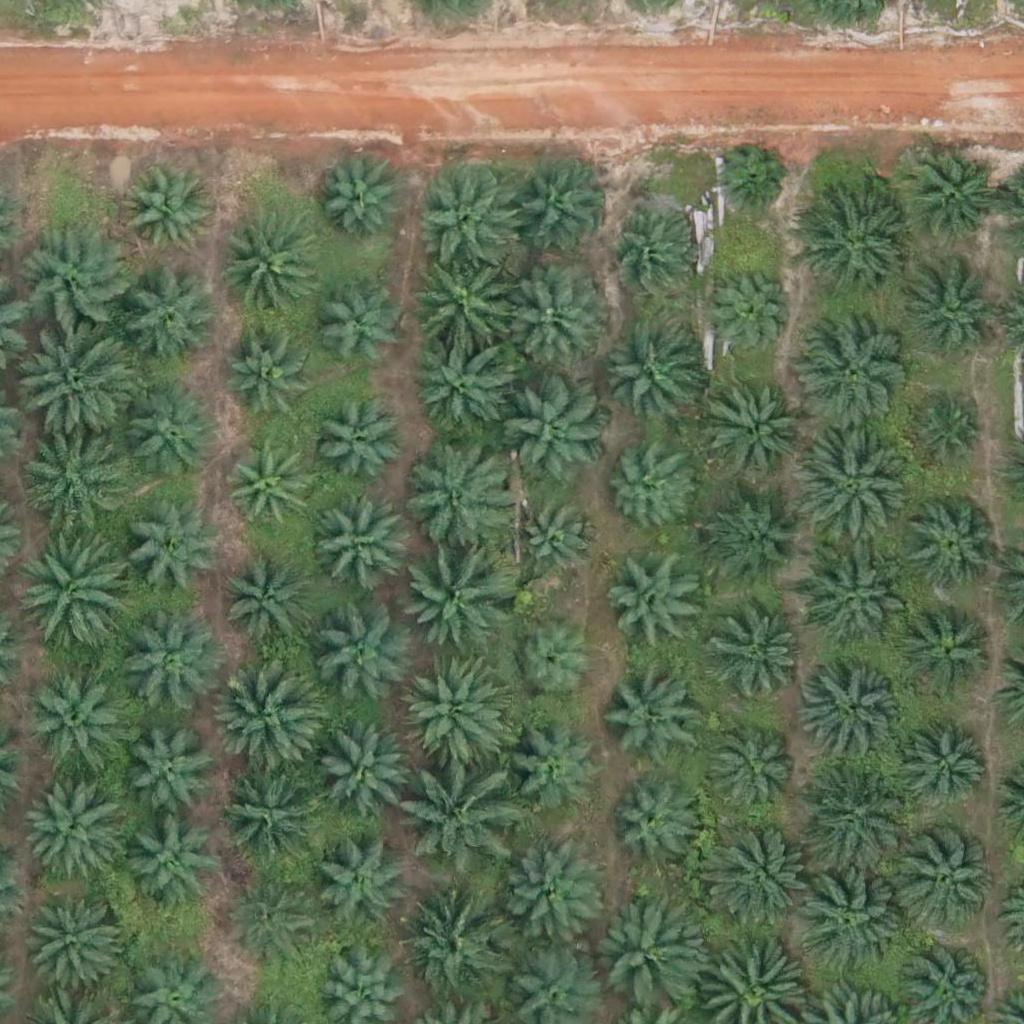Kelapa_Sawit: (700, 816, 813, 930), (792, 435, 905, 549), (794, 864, 907, 978), (16, 532, 129, 645), (14, 232, 127, 345), (212, 656, 325, 769), (411, 165, 524, 278), (400, 542, 513, 655), (397, 655, 510, 768), (792, 318, 905, 431), (797, 758, 910, 871), (17, 329, 129, 443), (18, 425, 130, 539), (404, 765, 516, 879), (23, 665, 135, 778), (394, 439, 506, 552), (795, 185, 907, 298), (22, 895, 122, 996), (20, 775, 120, 876), (121, 378, 221, 479), (117, 610, 217, 711), (120, 811, 220, 912), (222, 866, 322, 967), (218, 216, 318, 317), (224, 769, 324, 870), (309, 496, 409, 597), (314, 605, 414, 706), (318, 722, 418, 823), (311, 834, 411, 935), (415, 263, 515, 364), (415, 333, 515, 434), (402, 898, 502, 999), (497, 846, 597, 947), (503, 268, 603, 369), (504, 160, 604, 261), (590, 897, 690, 998), (703, 376, 803, 477), (801, 555, 901, 656), (803, 664, 903, 765), (901, 599, 1001, 700), (908, 150, 1008, 251), (120, 271, 220, 371), (506, 378, 606, 478), (601, 326, 701, 426), (604, 543, 704, 643), (602, 659, 702, 759), (700, 715, 800, 815), (707, 602, 807, 702), (706, 494, 806, 594), (901, 826, 1001, 926), (900, 494, 1000, 594), (222, 447, 310, 536), (708, 269, 796, 358), (122, 173, 210, 261), (128, 734, 216, 822), (226, 341, 314, 429), (315, 285, 403, 373), (509, 622, 597, 710), (513, 498, 601, 586), (602, 443, 690, 531), (313, 158, 400, 247), (507, 727, 594, 816), (127, 509, 214, 597), (220, 563, 307, 651), (314, 401, 401, 489), (609, 216, 696, 304), (610, 776, 697, 864), (897, 724, 984, 812), (908, 275, 995, 363), (909, 397, 984, 473), (715, 143, 790, 218)
